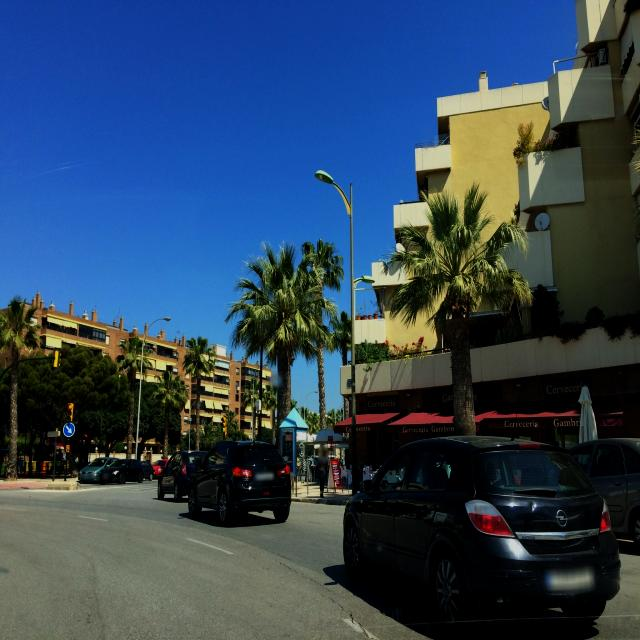car: (342, 434, 622, 630), (188, 438, 292, 526), (565, 436, 640, 551), (157, 449, 207, 501), (99, 458, 152, 484), (78, 458, 112, 483), (152, 458, 169, 480)
